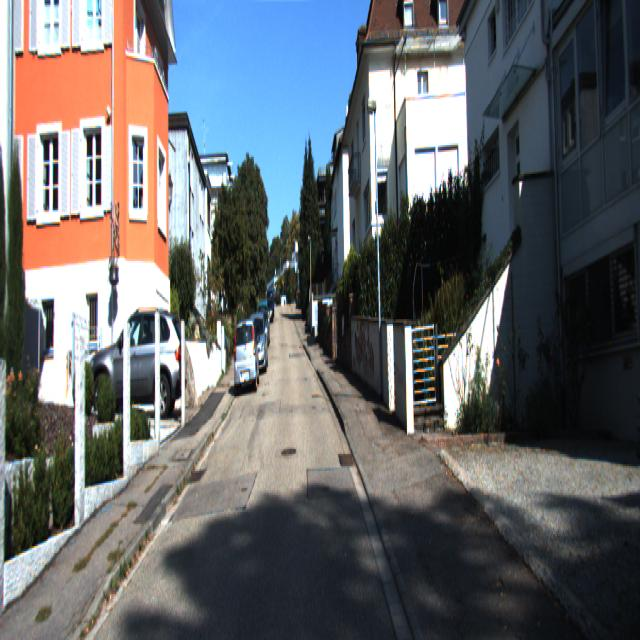Car: (87, 305, 186, 426), (233, 316, 261, 397), (244, 313, 269, 376)
DontCare: (264, 286, 276, 320)
